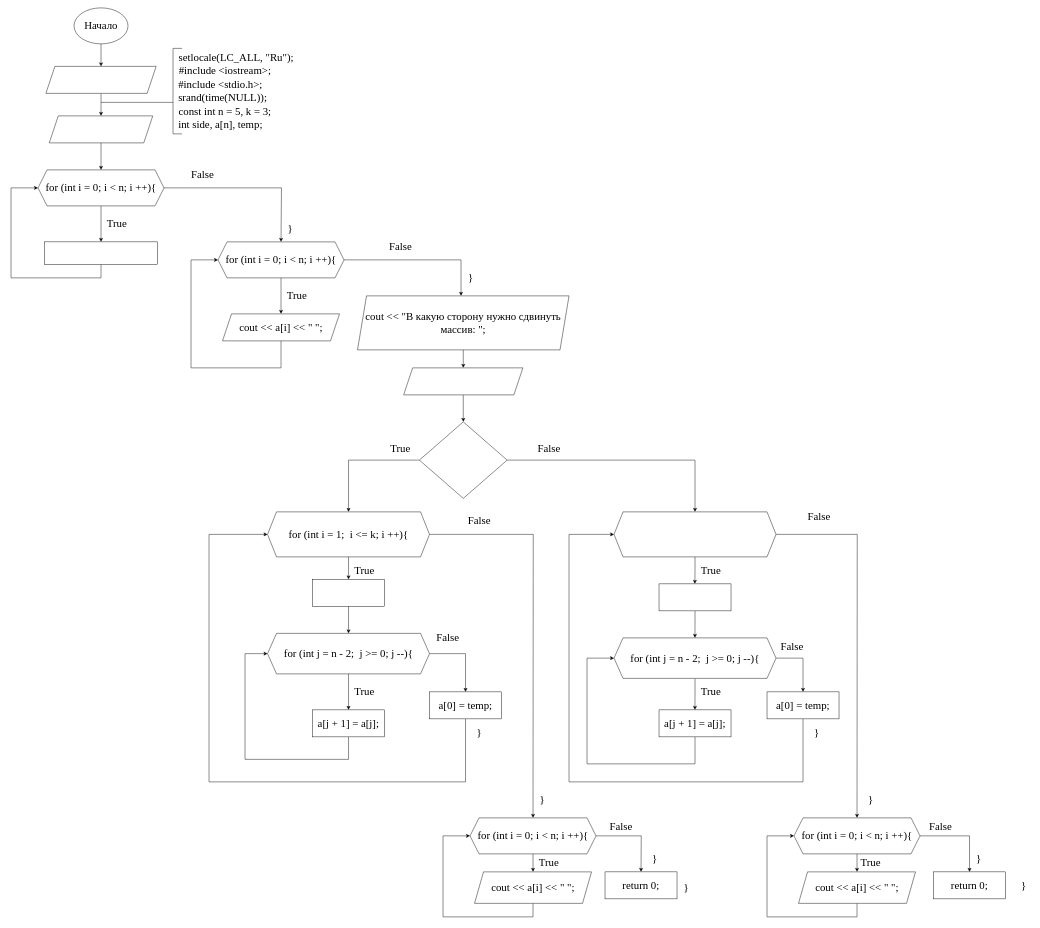
This 1040x928 diagram has some shape labels left out. The shapes that lost their labels are listed below. From the top down, each one's box as (x1, y1, x2, y2) in pixels, then its label:
(45, 66, 156, 93): using namespace std;
(49, 115, 153, 143): int main(){
(44, 241, 157, 264): a[i] = rand() % 100 + 1;
(403, 367, 523, 395): cin >> side;
(419, 421, 507, 498): if (side){
(614, 511, 776, 557): for (int i = 1; i <= n - k; i ++){
(312, 579, 385, 606): temp = a[n -1];
(659, 583, 731, 611): temp = a[n - i];
